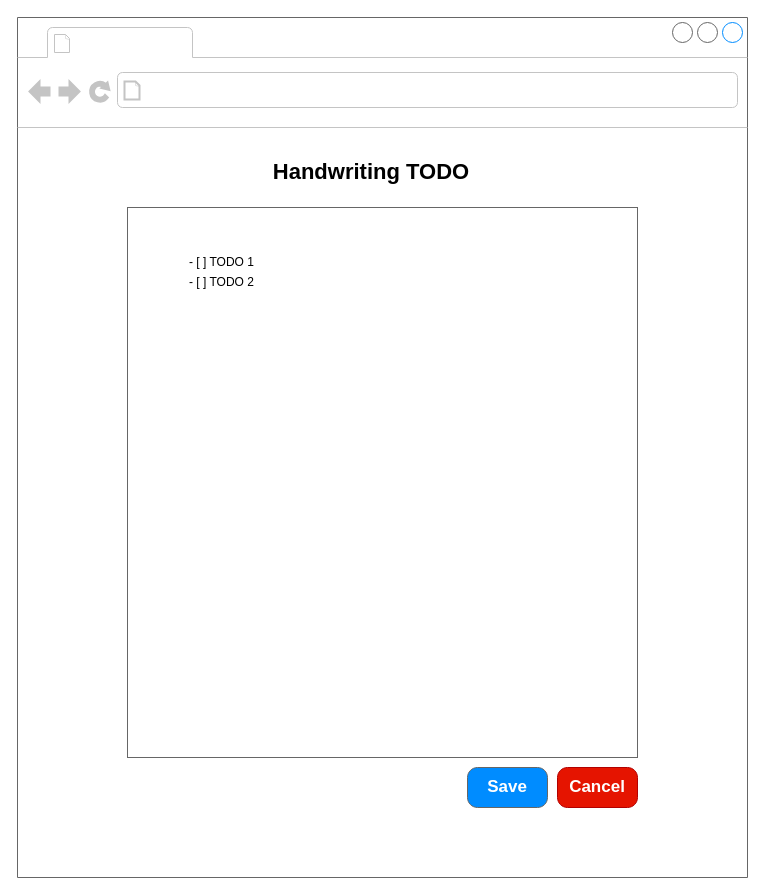
Image size: 765x895. Some labels were removed from this diagram. The box of each missing label's shape, as (x1, y1, x2, y2) in pixels:
handwriting-.todo: (76, 28, 188, 56)
http://handwriting-todo.net: (146, 76, 398, 104)
